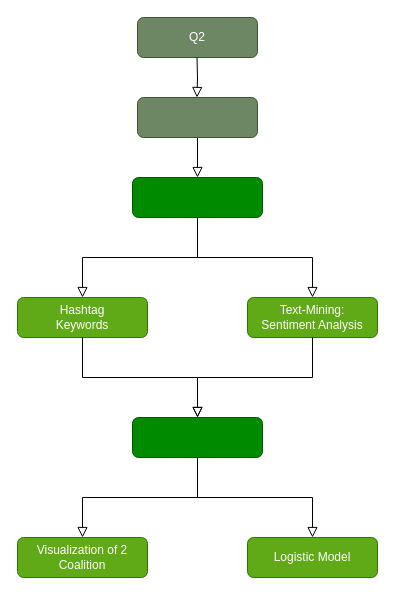
This 395x595 diagram has some shape labels left out. Here are the shapes that lost their labels. From the top down, the centre of each, then its label:
point (197, 117): Collect Data with Twitter API
point (197, 197): Process Data by Coalition Classification
point (197, 437): Processed Dataset
